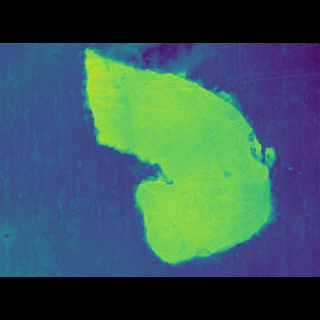Loch: (72, 74, 282, 240)
